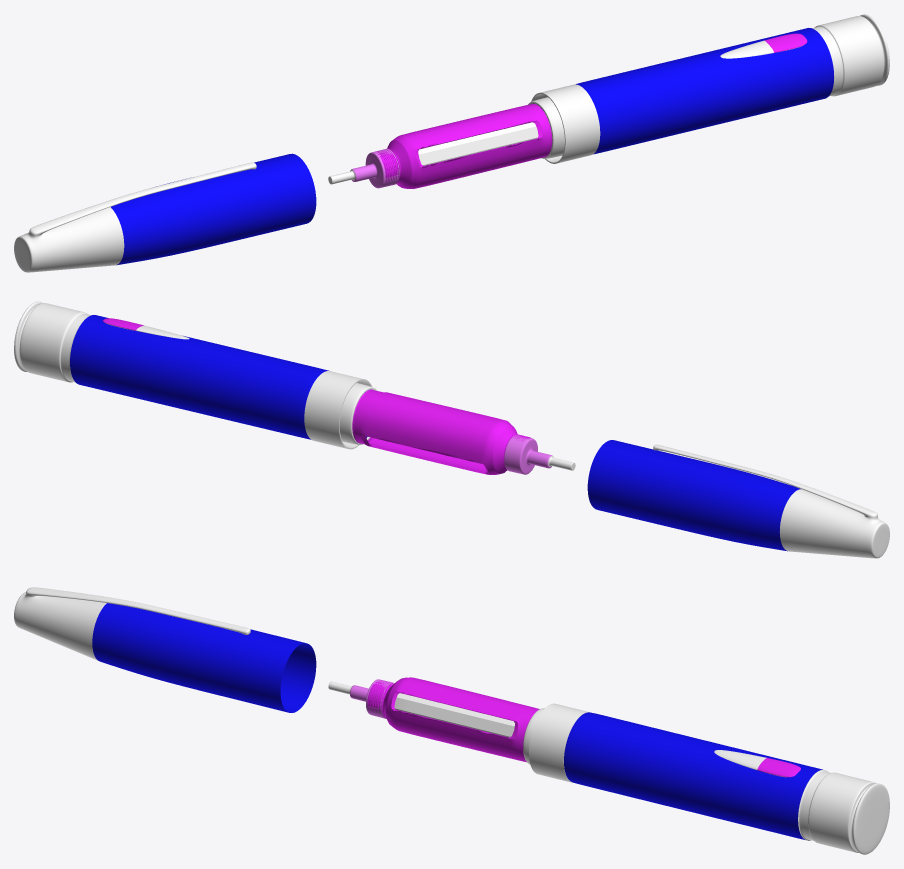
The picture shows the model from 3 angles, top to bottom: view 1: azimuth 30°, elevation 25°; view 2: azimuth 150°, elevation 25°; view 3: azimuth 330°, elevation 25°; orthographic projection.
Visible parts, largest first — view 1: polySurface2, Caneta_V03:TAMPA, Caneta_V03:PLASTICO_EXTERIOR, Caneta_V03:TOPO, Caneta_V03:REGULADOR, polySurface1, Caneta_V03:deposito, Caneta_V03:SUPORTE_AGULHA, Caneta_V03:METAL, Caneta_V03:polySurface4, Caneta_V03:polySurface3; view 2: polySurface2, Caneta_V03:TAMPA, Caneta_V03:PLASTICO_EXTERIOR, Caneta_V03:TOPO, Caneta_V03:REGULADOR, polySurface1, Caneta_V03:SUPORTE_AGULHA, Caneta_V03:METAL; view 3: polySurface2, Caneta_V03:TAMPA, Caneta_V03:PLASTICO_EXTERIOR, Caneta_V03:REGULADOR, Caneta_V03:TOPO, polySurface1, Caneta_V03:deposito, Caneta_V03:polySurface3, Caneta_V03:SUPORTE_AGULHA, Caneta_V03:polySurface4.
Part boxes in pixels (left/top/right/bottom): polySurface2: left=533, top=28, right=833, bottom=154; Caneta_V03:TAMPA: left=111, top=153, right=316, bottom=265; Caneta_V03:PLASTICO_EXTERIOR: left=376, top=103, right=552, bottom=188; Caneta_V03:TOPO: left=14, top=162, right=256, bottom=272; Caneta_V03:REGULADOR: left=808, top=14, right=889, bottom=96; polySurface1: left=531, top=84, right=600, bottom=163; Caneta_V03:deposito: left=418, top=114, right=552, bottom=165; Caneta_V03:SUPORTE_AGULHA: left=351, top=148, right=399, bottom=188; Caneta_V03:METAL: left=528, top=97, right=564, bottom=158; Caneta_V03:polySurface4: left=720, top=40, right=773, bottom=58; Caneta_V03:polySurface3: left=764, top=33, right=807, bottom=52; polySurface2: left=70, top=315, right=369, bottom=439; Caneta_V03:TAMPA: left=587, top=440, right=800, bottom=551; Caneta_V03:PLASTICO_EXTERIOR: left=352, top=389, right=531, bottom=474; Caneta_V03:TOPO: left=653, top=444, right=889, bottom=558; Caneta_V03:REGULADOR: left=14, top=301, right=90, bottom=382; polySurface1: left=304, top=371, right=372, bottom=449; Caneta_V03:SUPORTE_AGULHA: left=504, top=435, right=552, bottom=474; Caneta_V03:METAL: left=339, top=383, right=376, bottom=444; polySurface2: left=564, top=712, right=822, bottom=839; Caneta_V03:TAMPA: left=92, top=603, right=316, bottom=712; Caneta_V03:PLASTICO_EXTERIOR: left=367, top=677, right=539, bottom=762; Caneta_V03:REGULADOR: left=798, top=769, right=889, bottom=854; Caneta_V03:TOPO: left=14, top=587, right=250, bottom=660; polySurface1: left=529, top=703, right=590, bottom=782; Caneta_V03:deposito: left=394, top=693, right=514, bottom=737; Caneta_V03:polySurface3: left=757, top=758, right=800, bottom=777; Caneta_V03:SUPORTE_AGULHA: left=350, top=679, right=394, bottom=718; Caneta_V03:polySurface4: left=714, top=750, right=766, bottom=769.
Size of the model in its own units: 9.35 by 0.774 by 0.6966.
